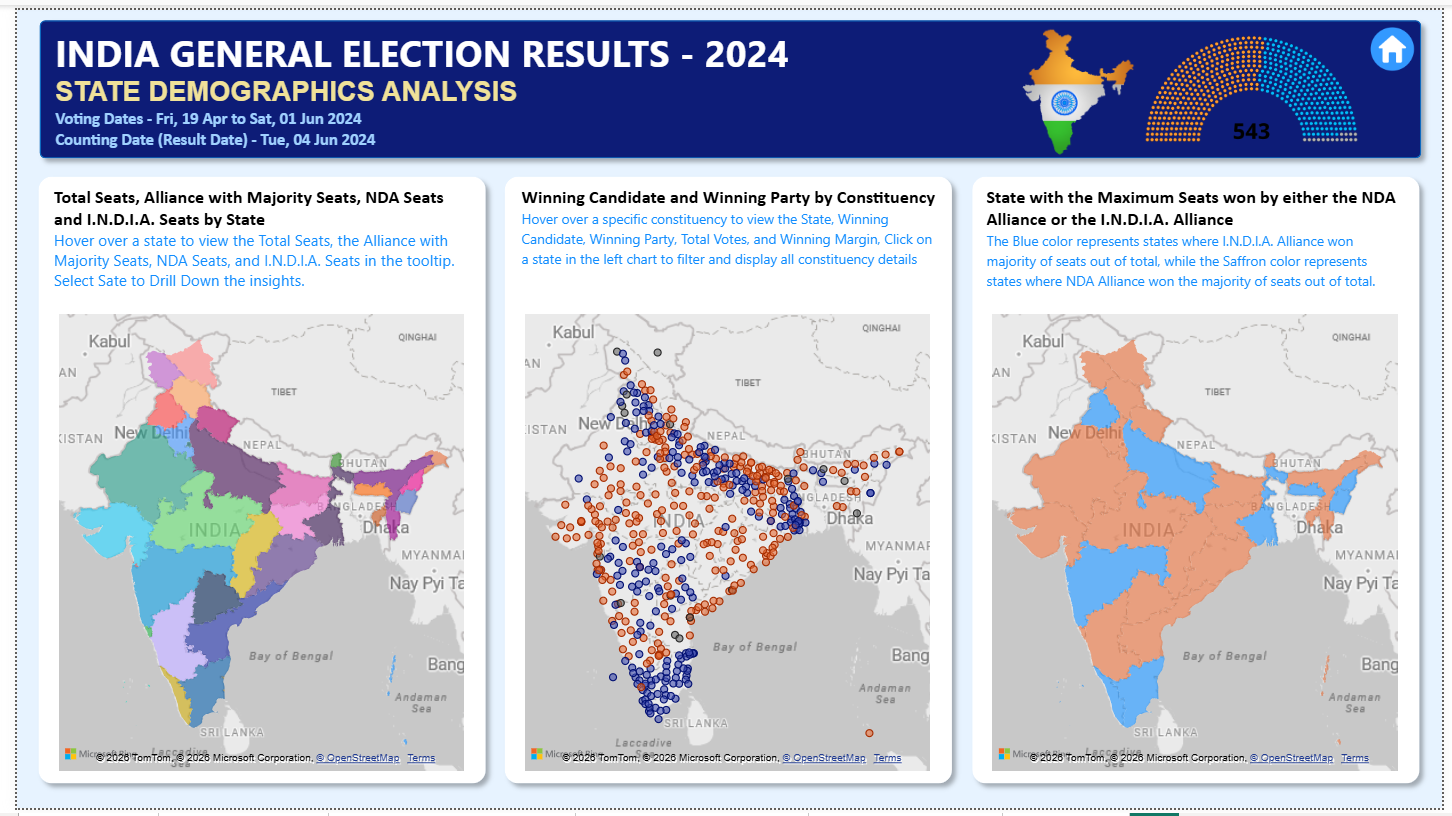

Layout of this report page (visuals, bound fields, positions):
{"tool":"powerbi","page":{"name":"State Demographics Analysis","canvas":[1250,700],"ordinal":2},"visuals":[{"type":"shape","box":[11,0,1229,139],"z":0},{"type":"textbox","box":[28,11,672,118],"z":1000},{"type":"shape","box":[10,137,410,550],"z":2000},{"type":"image","box":[864,16,130,110],"z":3000},{"type":"image","box":[986,11,192,117],"z":4000},{"type":"shape","box":[419,137,410,550],"z":5000},{"type":"shape","box":[828,137,410,550],"z":6000},{"type":"textbox","box":[27,149,374,119],"z":7000},{"type":"filledMap","fields":{"Category":["states.State"],"Series":["states.State"]},"box":[32,262,365,410],"z":8000},{"type":"textbox","box":[437,149,374,119],"z":9000},{"type":"map","fields":{"Category":["states.State","statewise_results.Constituency"],"Series":["constituencywise_results.Party Alliance (Result)"]},"box":[441,262,365,410],"z":10000},{"type":"textbox","box":[845,149,374,119],"z":11000},{"type":"filledMap","fields":{"Category":["states.State"],"Series":["states.Winning Alliance Legend"]},"box":[850,262,365,410],"z":12000},{"type":"image","box":[1186,14,40,40],"z":13000}]}

Visuals, with their boxes in screenshot pixels (x1, y1, x2, y2), scaled from the page's 1250x700 canvas onto the 1452x816 screenshot:
shape: BBox(13, 0, 1440, 162)
textbox: BBox(33, 13, 813, 150)
shape: BBox(12, 160, 488, 801)
image: BBox(1004, 19, 1155, 147)
image: BBox(1145, 13, 1368, 149)
shape: BBox(487, 160, 963, 801)
shape: BBox(962, 160, 1438, 801)
textbox: BBox(31, 174, 466, 312)
filledMap - states.State x states.State: BBox(37, 305, 461, 783)
textbox: BBox(508, 174, 942, 312)
map - states.State x statewise_results.Constituency: BBox(512, 305, 936, 783)
textbox: BBox(982, 174, 1416, 312)
filledMap - states.State x states.Winning Alliance Legend: BBox(987, 305, 1411, 783)
image: BBox(1378, 16, 1424, 63)
